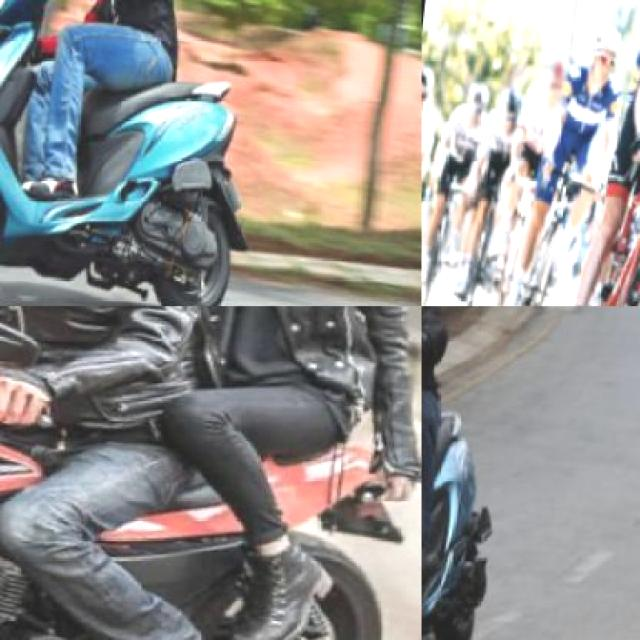With Helmet: (581, 18, 625, 92), (488, 76, 530, 142), (534, 50, 572, 116), (458, 77, 491, 128), (422, 62, 438, 125)
